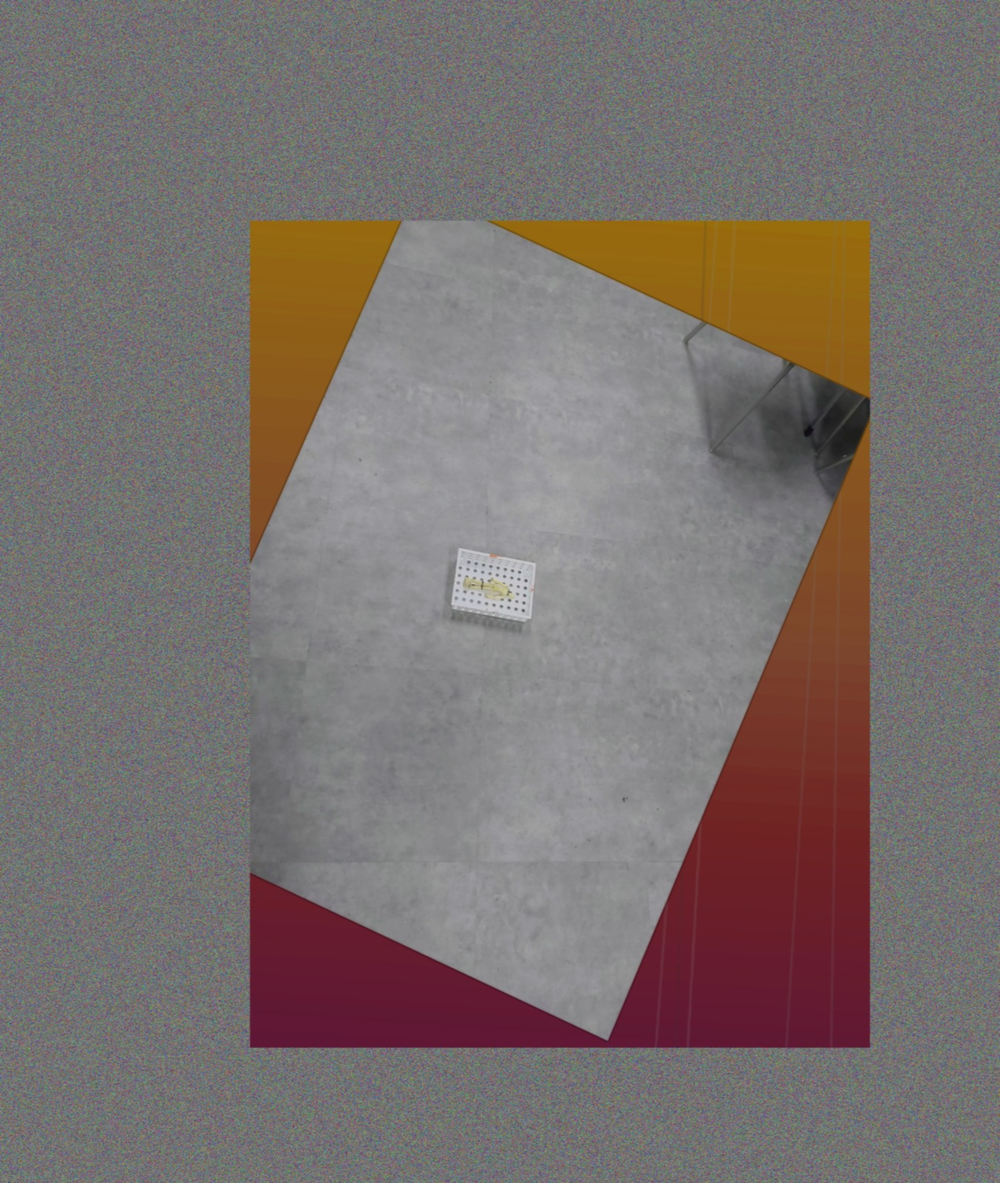basket: (448, 547, 538, 625)
mannequin: (462, 577, 517, 601)
